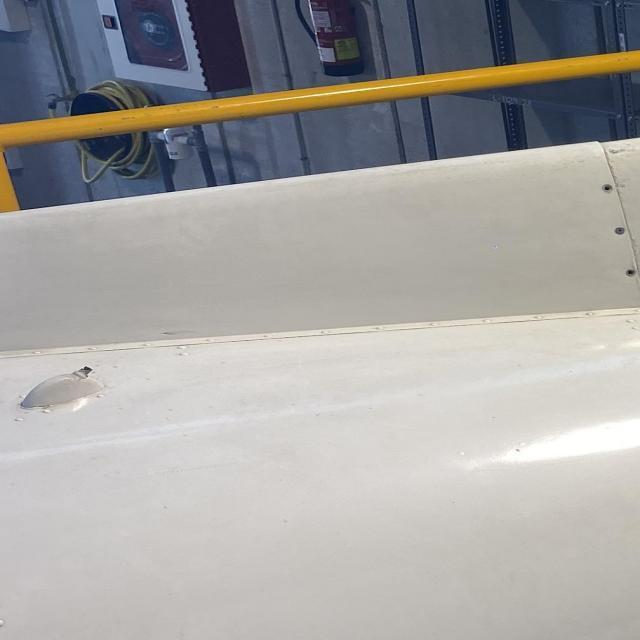Missing-head: (602, 183, 613, 193), (625, 269, 636, 276)
